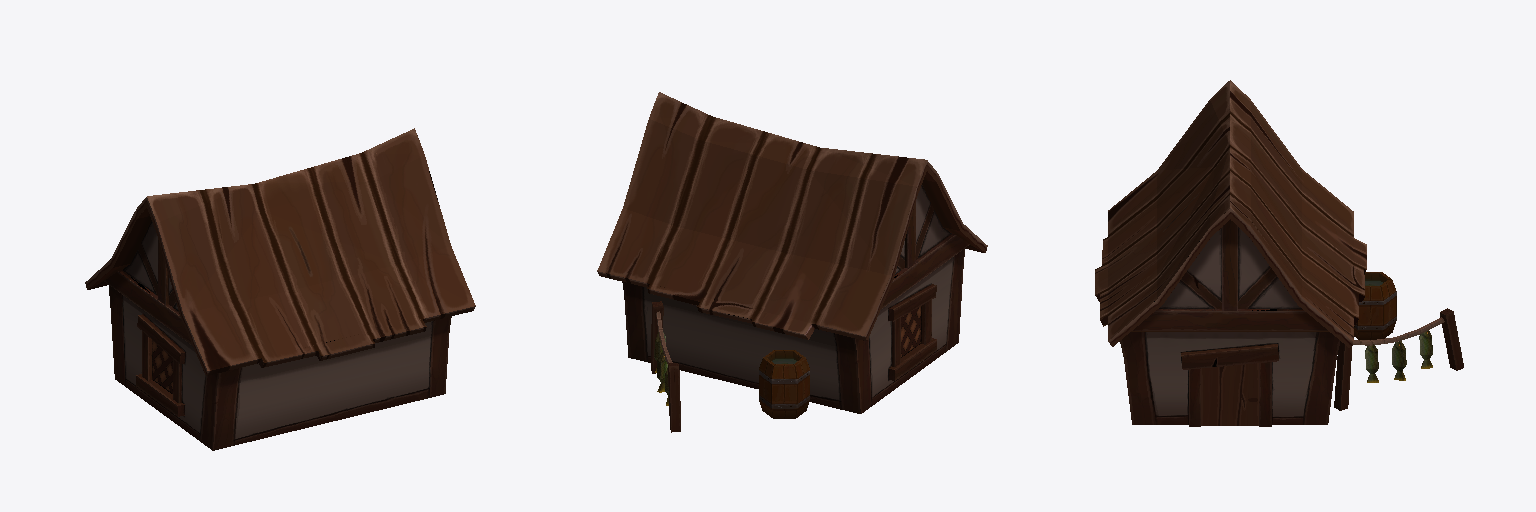
3 views of the same model, side by side, from view 1: azimuth 30°, elevation 25°; view 2: azimuth 150°, elevation 25°; view 3: azimuth 270°, elevation 25° (orthographic).
Parts seen in each view (by area): view 1: Cube.000, Cube.004_Cube.003; view 2: Cube.000, Cube.004_Cube.003, Cylinder, Cube.001; view 3: Cube.000, Cube.004_Cube.003, Cube.006, Cylinder, Cube.001.
Part boxes in pixels (bbox=[...]): Cube.000: bbox=[85, 128, 475, 375]; Cube.004_Cube.003: bbox=[109, 285, 451, 450]; Cube.000: bbox=[597, 92, 987, 340]; Cube.004_Cube.003: bbox=[622, 249, 964, 413]; Cylinder: bbox=[759, 350, 809, 418]; Cube.001: bbox=[651, 301, 680, 432]; Cube.000: bbox=[1095, 80, 1366, 347]; Cube.004_Cube.003: bbox=[1120, 332, 1339, 426]; Cube.006: bbox=[1201, 363, 1258, 425]; Cylinder: bbox=[1354, 272, 1396, 339]; Cube.001: bbox=[1334, 308, 1463, 410].
Size of the model in its own units: 3.85 by 3.11 by 4.59.
6 materials, 6 textured.